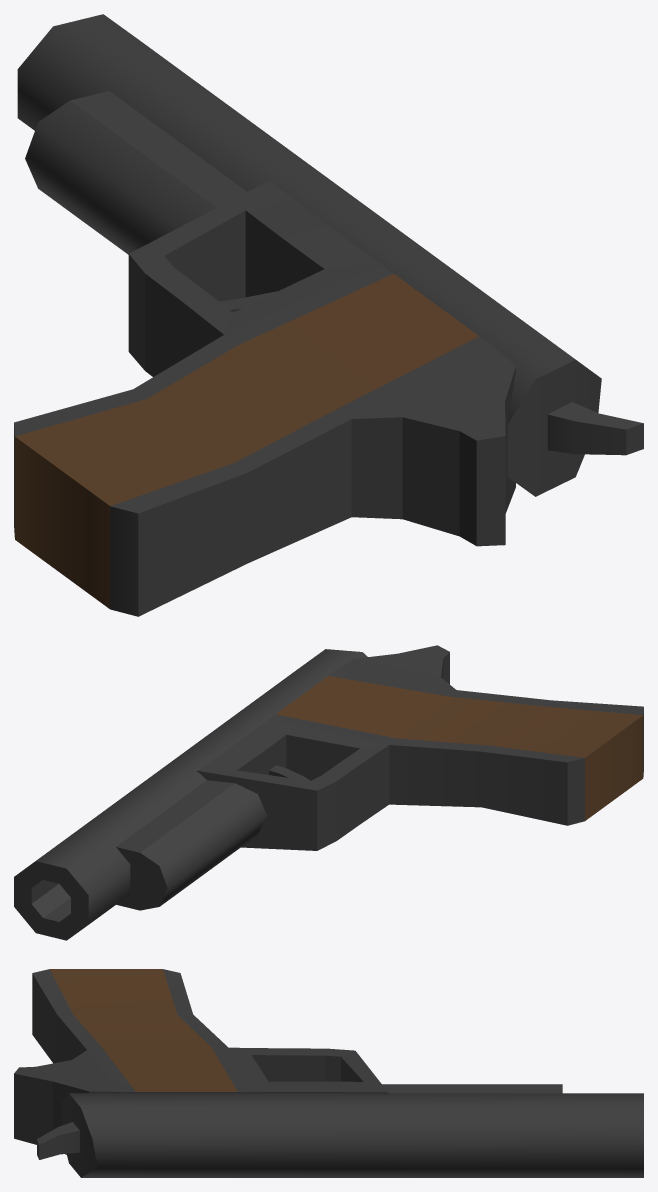
File: PistolModel.FBX
The picture shows the model from 3 angles, top to bottom: view 1: azimuth 30°, elevation 25°; view 2: azimuth 150°, elevation 25°; view 3: azimuth 270°, elevation 25°; orthographic projection. The views are drawn at different scales.
Visible parts, largest first — view 1: Pistol; view 2: Pistol; view 3: Pistol.
Boxes of the visible parts, x1=… form: Pistol: x1=14, y1=14, x2=643, y2=616; Pistol: x1=14, y1=645, x2=643, y2=940; Pistol: x1=14, y1=969, x2=643, y2=1177.
Size of the model in its own units: 78.66 by 17.41 by 137.
